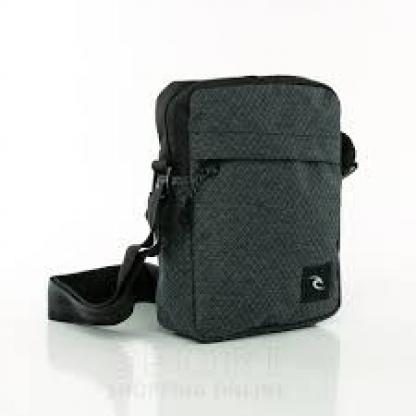morral: (37, 54, 373, 358)
